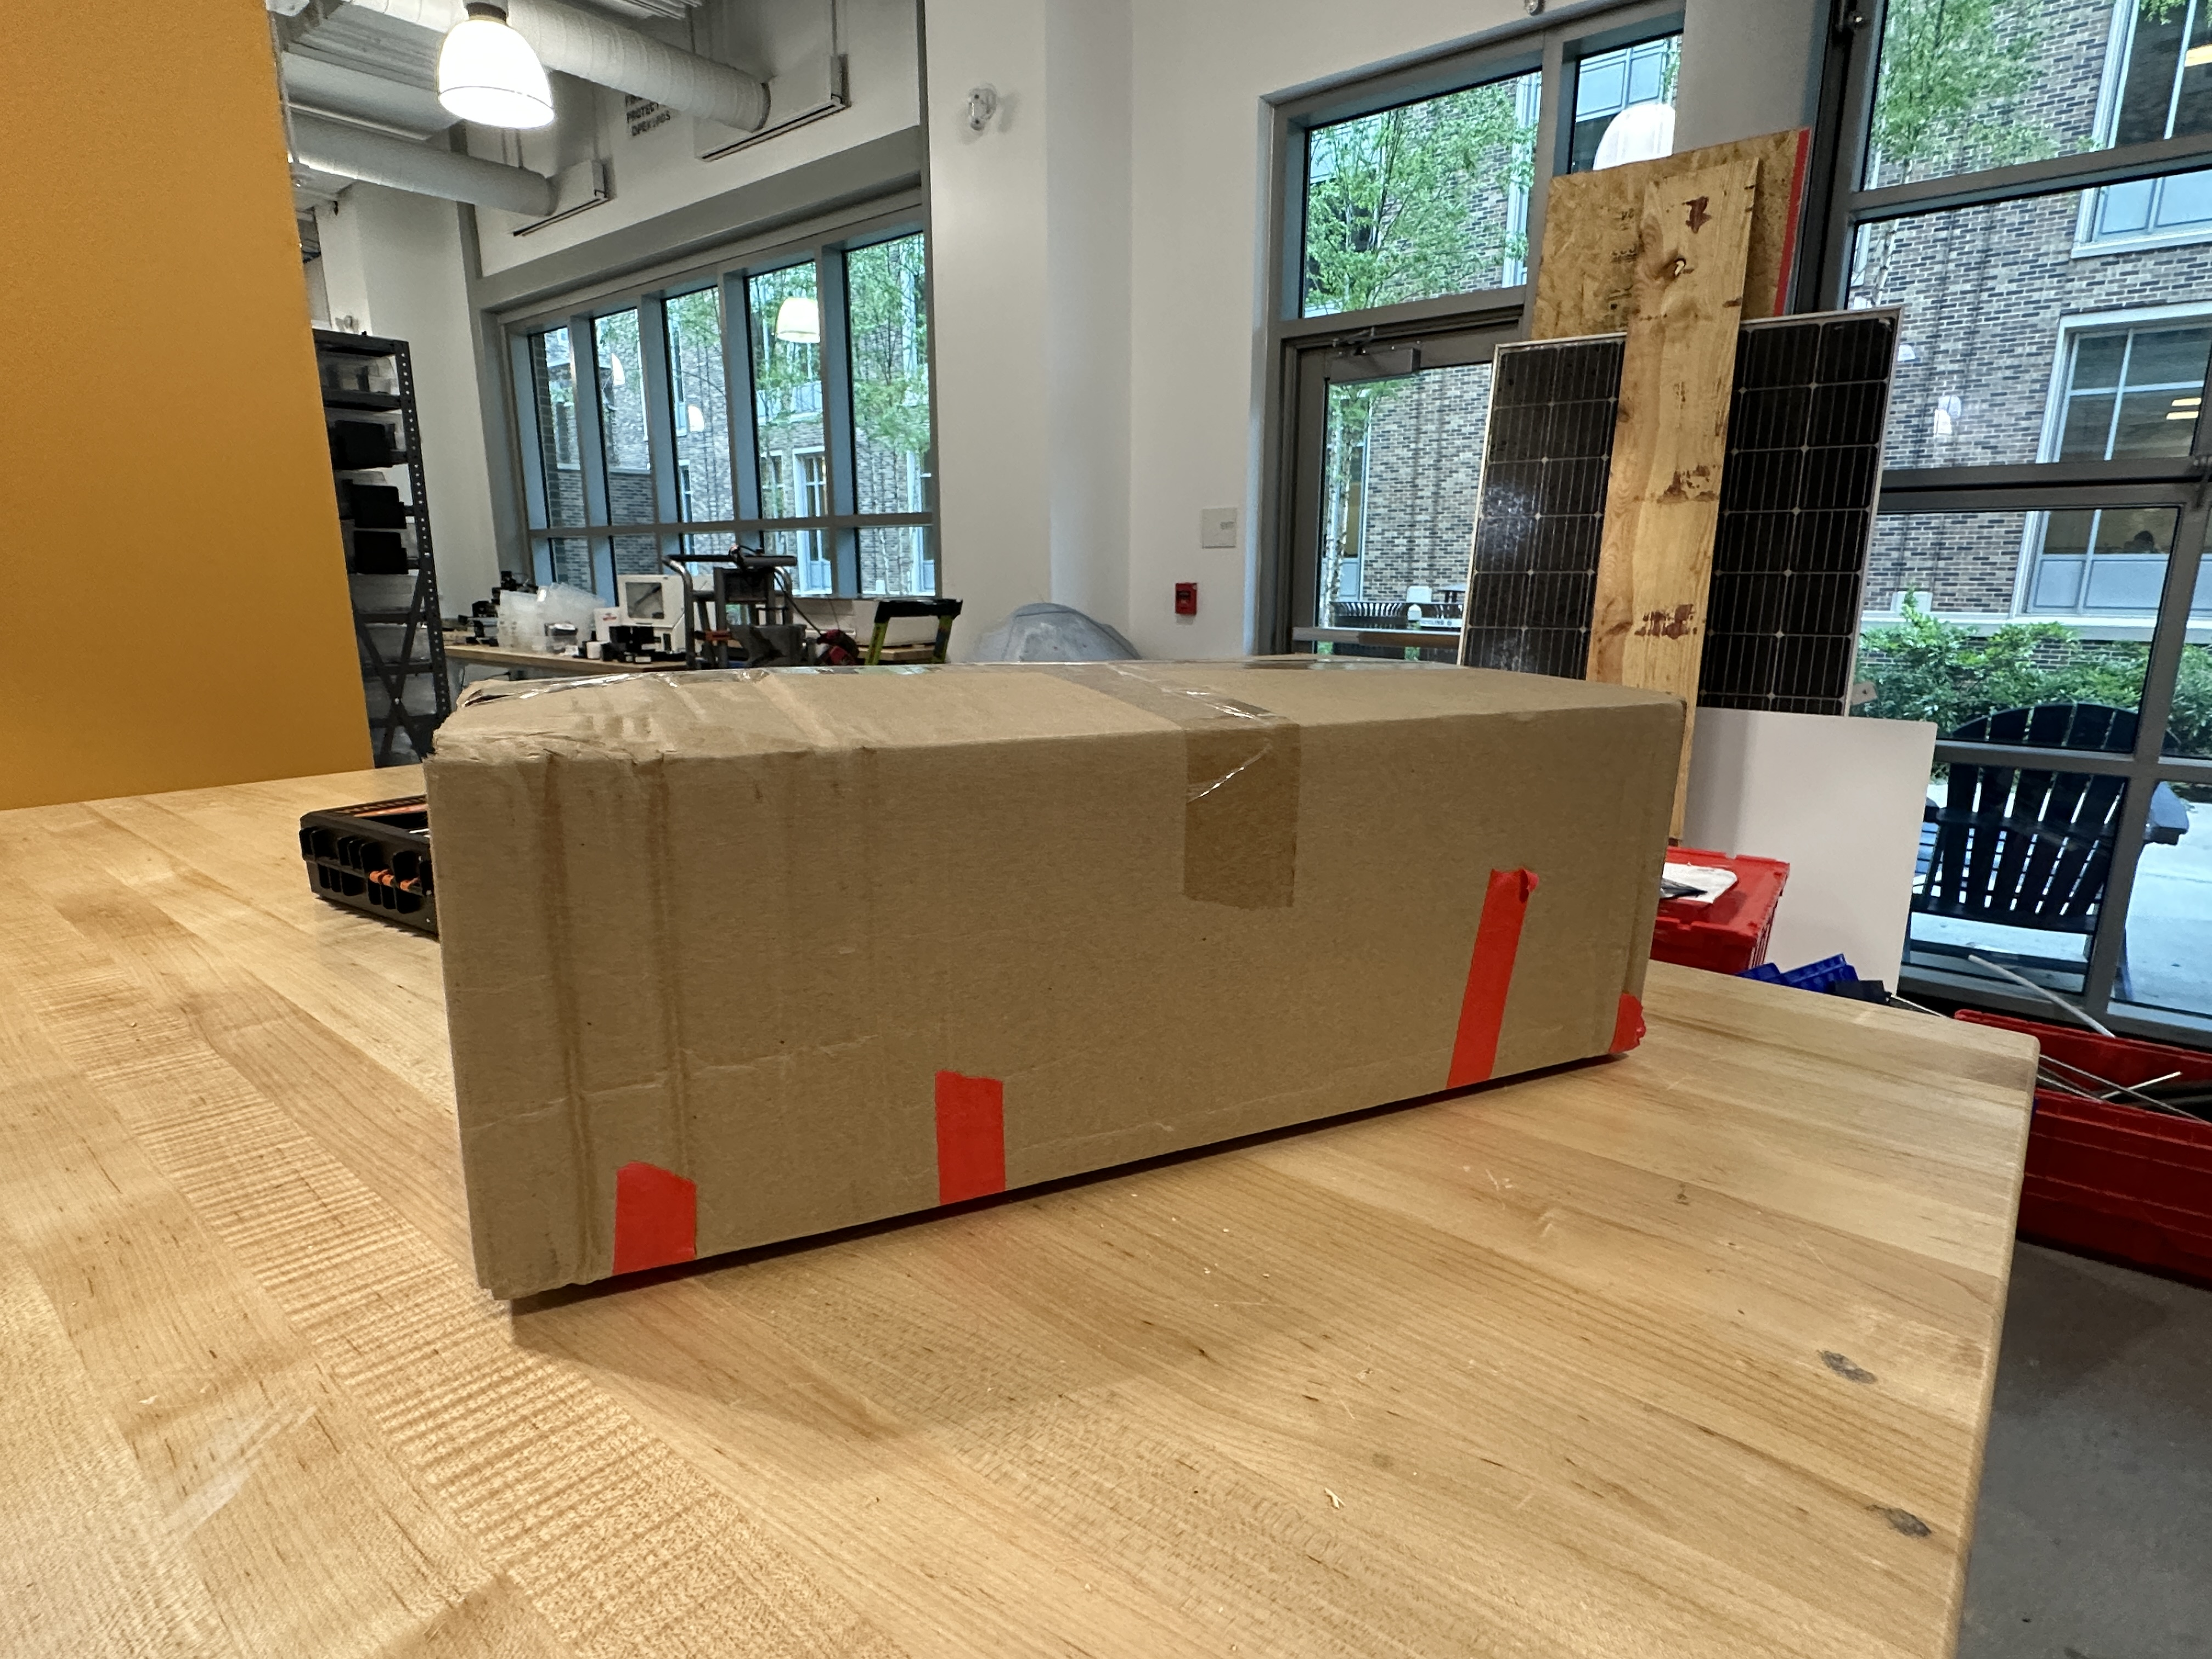Box_Obstacle: (416, 655, 1712, 1321)
